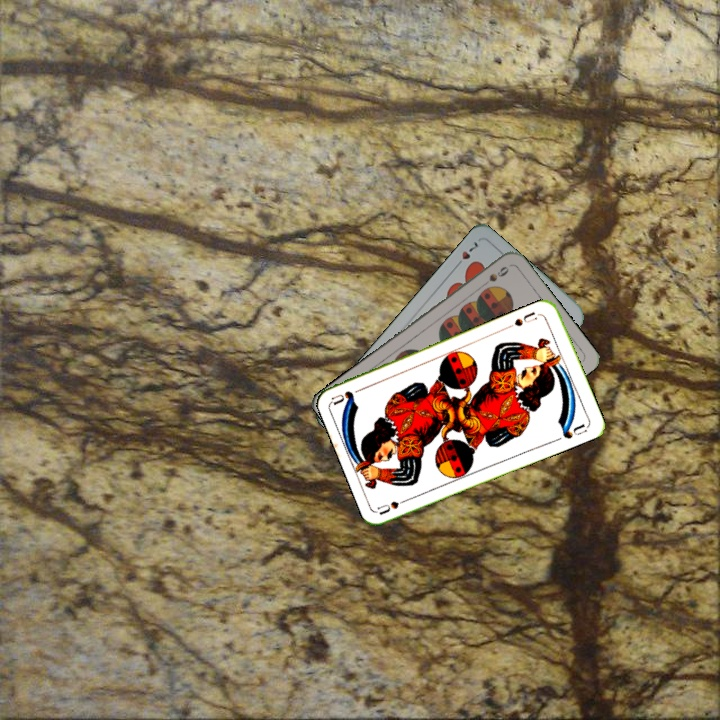H7: (451, 237, 480, 271)
S9: (476, 262, 512, 291)
SU: (374, 493, 415, 517), (510, 308, 540, 329)
